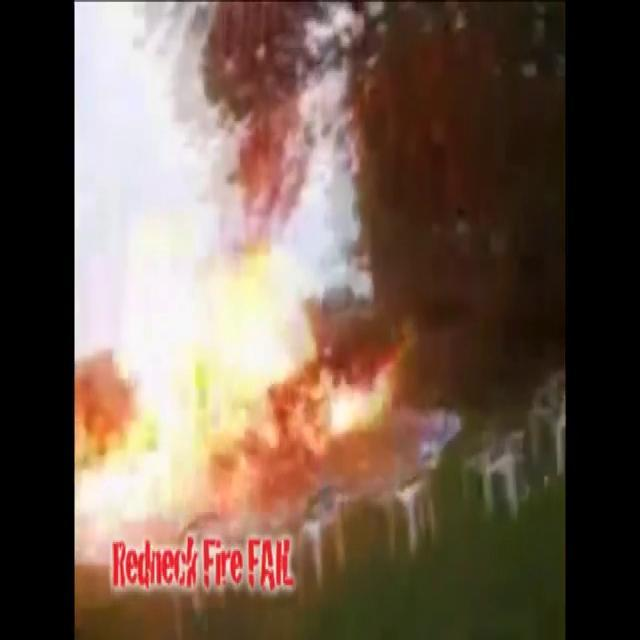Fire: (74, 111, 400, 538)
